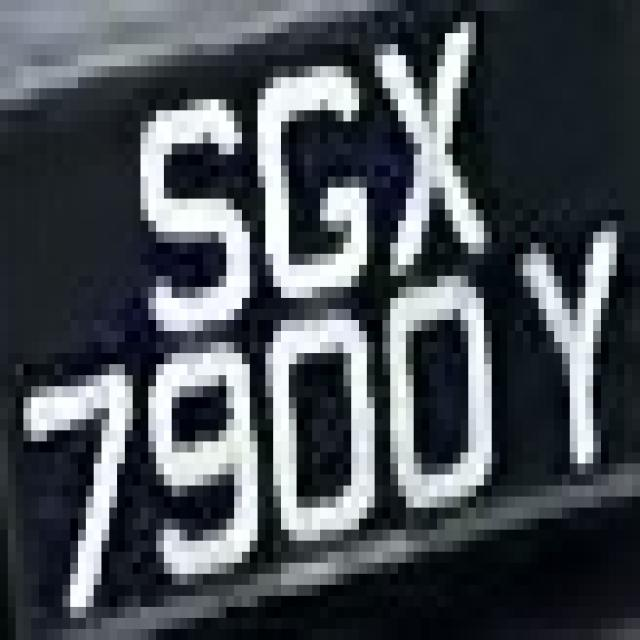0: (250, 254, 382, 574), (383, 264, 515, 518)
7: (0, 353, 148, 618)
9: (140, 298, 281, 574)
G: (226, 44, 375, 331)
S: (109, 55, 242, 364)
X: (351, 0, 515, 287)
Y: (515, 177, 640, 508)
